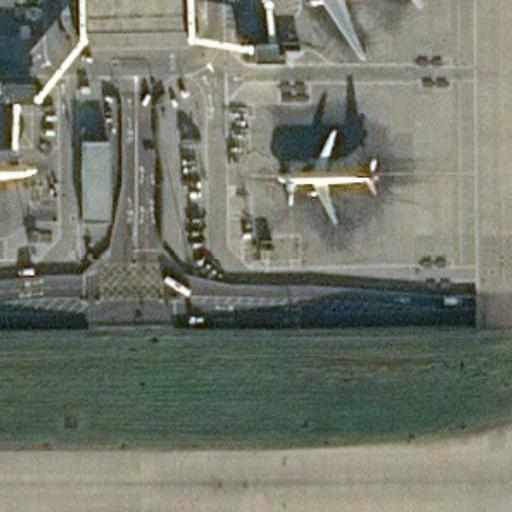Aircraft: (246, 0, 428, 59), (273, 126, 378, 223), (0, 80, 36, 260), (0, 0, 16, 51)
